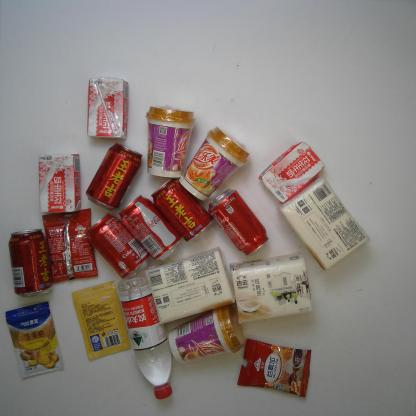Drink: (117, 274, 177, 398), (150, 178, 214, 242), (119, 195, 179, 261), (85, 142, 142, 211), (209, 190, 268, 256), (87, 216, 148, 276), (7, 228, 54, 297)
Instant Drink: (181, 126, 251, 202), (166, 304, 244, 364), (40, 207, 101, 283), (237, 338, 312, 399), (144, 104, 194, 180)
Milk: (259, 140, 325, 204), (85, 75, 132, 140), (37, 153, 79, 216)
Seasoner: (71, 281, 133, 362), (4, 300, 62, 378)
Tissue: (281, 178, 370, 272), (141, 248, 236, 327), (228, 253, 312, 323)
